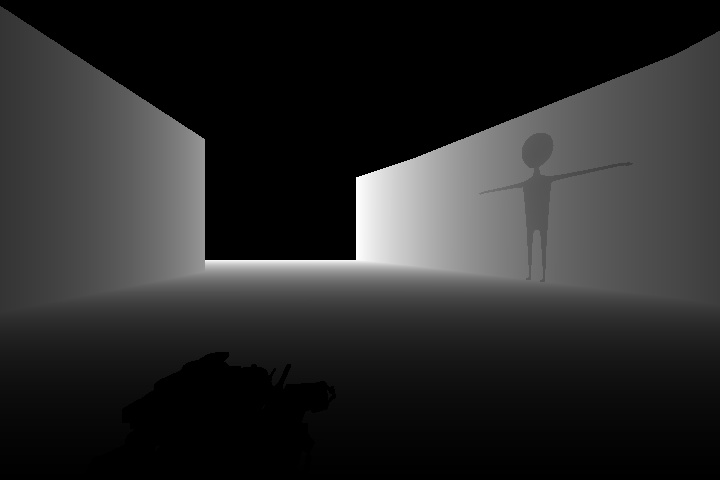alien: (477, 130, 637, 286)
